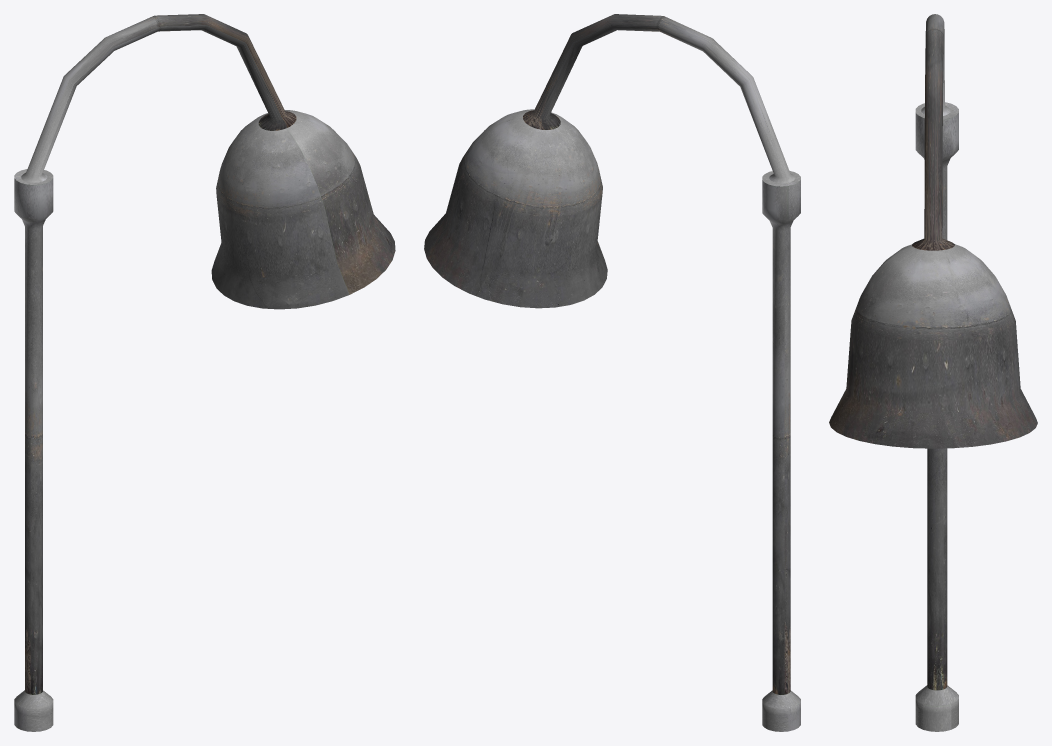
File: lampPostColl.DAE
3 renders of one model, left to right at view 1: azimuth 30°, elevation 25°; view 2: azimuth 150°, elevation 25°; view 3: azimuth 270°, elevation 25°, orthographic. The views are drawn at different scales.
Parts seen in each view (by area): view 1: Sphere001, Cylinder002, Cylinder004; view 2: Sphere001, Cylinder002, Cylinder004; view 3: Sphere001, Cylinder002, Cylinder004.
Part boxes in pixels (x1,y1,x2,y2): Sphere001: (211, 110, 395, 309); Cylinder002: (14, 169, 53, 731); Cylinder004: (21, 14, 296, 182); Sphere001: (424, 109, 607, 308); Cylinder002: (762, 171, 800, 731); Cylinder004: (523, 14, 795, 183); Sphere001: (829, 244, 1037, 448); Cylinder002: (915, 102, 958, 731); Cylinder004: (912, 14, 954, 250).
Bounding box in the file's own units: 181 × 321 × 80.11.
